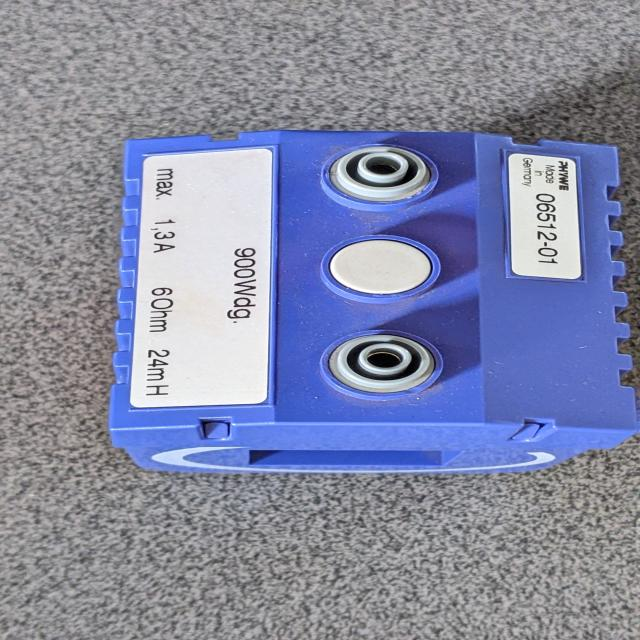Solenoid: (84, 134, 640, 491)
